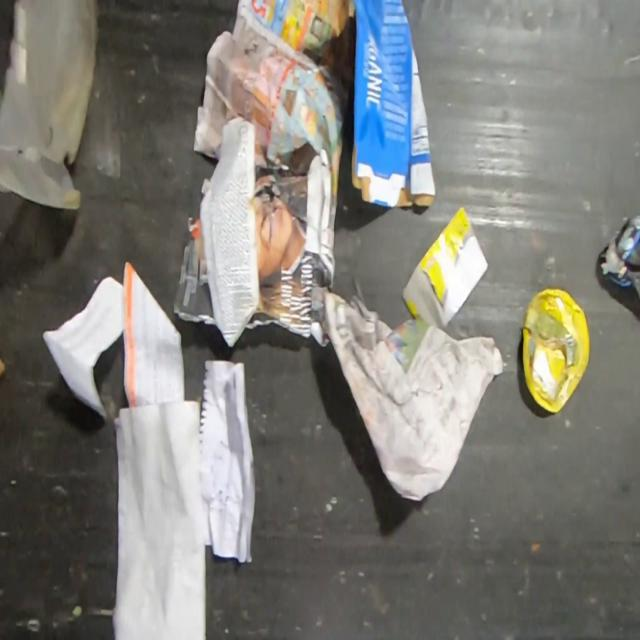cardboard: (350, 0, 438, 209), (401, 202, 490, 332)
rigid_plastic: (0, 0, 100, 211), (521, 284, 592, 415)
